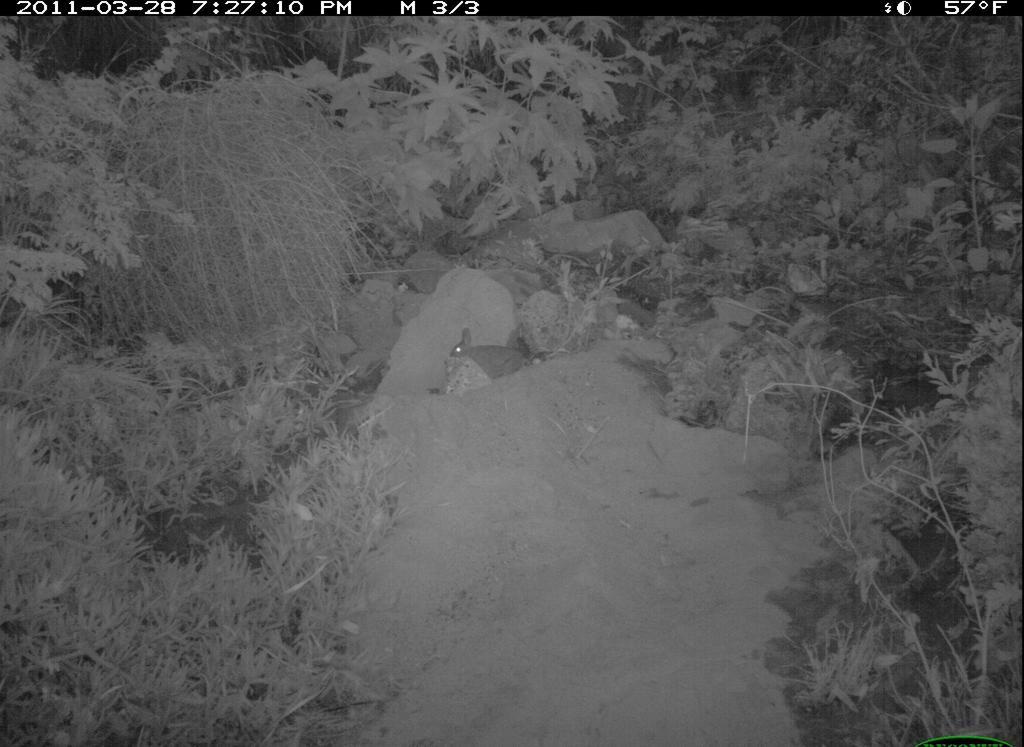rabbit: (449, 324, 543, 392)
